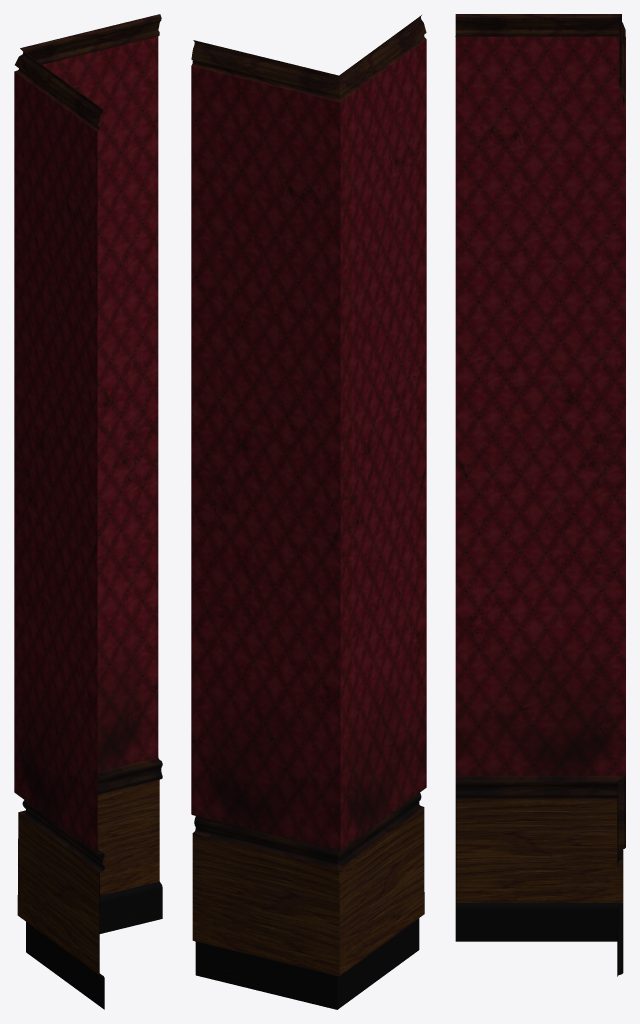
The model's file is Mod_Wall_Corner_B_1x6.fbx.
3 renders of one model, left to right at view 1: azimuth 30°, elevation 25°; view 2: azimuth 150°, elevation 25°; view 3: azimuth 270°, elevation 25°, orthographic. The views are drawn at different scales.
Parts seen in each view (by area): view 1: Mod_Wall_Corner_B_1x6; view 2: Mod_Wall_Corner_B_1x6; view 3: Mod_Wall_Corner_B_1x6.
Boxes of the visible parts, x1,y1,x2,y2 form: Mod_Wall_Corner_B_1x6: (14,14,162,1009); Mod_Wall_Corner_B_1x6: (191,15,426,1009); Mod_Wall_Corner_B_1x6: (455,14,625,976).
Bounding box in the file's own units: 100 × 600 × 100.
1 material, 1 textured.
